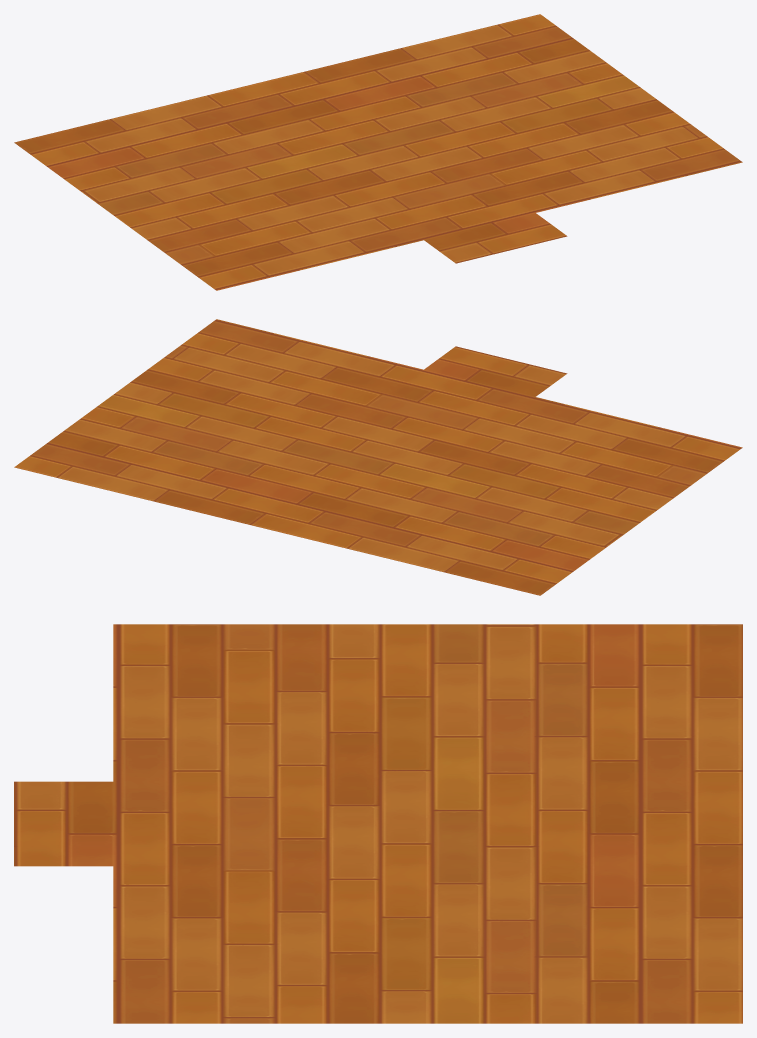
File: Floor03_a01.FBX
3 views of the same model, one above another, from view 1: azimuth 30°, elevation 25°; view 2: azimuth 150°, elevation 25°; view 3: azimuth 270°, elevation 25° (orthographic). The views are drawn at different scales.
Parts seen in each view (by area): view 1: Floor03_a01; view 2: Floor03_a01; view 3: Floor03_a01.
Boxes of the visible parts, x1=… form: Floor03_a01: x1=14, y1=14, x2=742, y2=290; Floor03_a01: x1=14, y1=319, x2=742, y2=595; Floor03_a01: x1=14, y1=624, x2=742, y2=1023.
Size of the model in its own units: 900 by 0.000446 by 695.
1 material, 1 textured.
